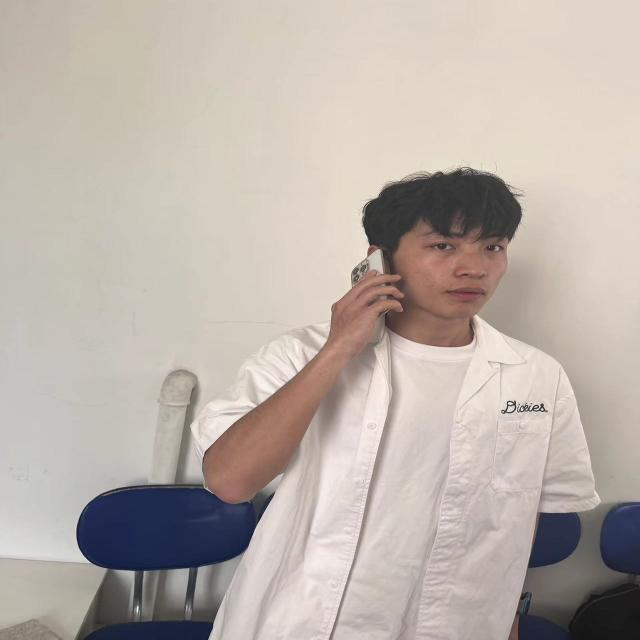phone: (351, 250, 393, 314)
